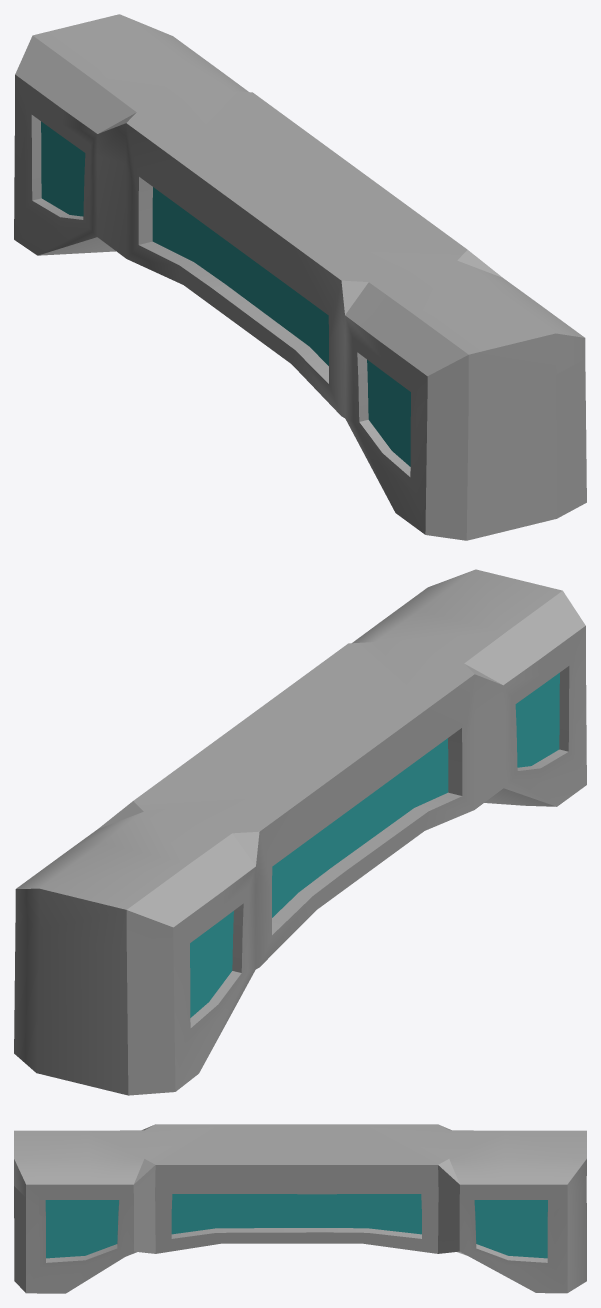
Rendered from archscifi8.fbx.
3 views of the same model, one above another, from view 1: azimuth 30°, elevation 25°; view 2: azimuth 150°, elevation 25°; view 3: azimuth 270°, elevation 25° (orthographic). The views are drawn at different scales.
Parts seen in each view (by area): view 1: polySurface20, polySurface18, polySurface22, polySurface19; view 2: polySurface20, polySurface18, polySurface19, polySurface22; view 3: polySurface20, polySurface15, polySurface21, polySurface16.
Part boxes in pixels (<box>): polySurface20: <box>14,14,586,540</box>; polySurface18: <box>152,187,328,365</box>; polySurface22: <box>41,121,85,216</box>; polySurface19: <box>367,359,410,466</box>; polySurface20: <box>14,569,586,1095</box>; polySurface18: <box>272,738,448,917</box>; polySurface19: <box>515,672,559,767</box>; polySurface22: <box>190,911,233,1017</box>; polySurface20: <box>14,1124,586,1293</box>; polySurface15: <box>171,1194,421,1234</box>; polySurface21: <box>474,1200,547,1258</box>; polySurface16: <box>45,1200,118,1258</box>.
Bounding box in the file's own units: 0.2387 × 0.2633 × 1.12.
